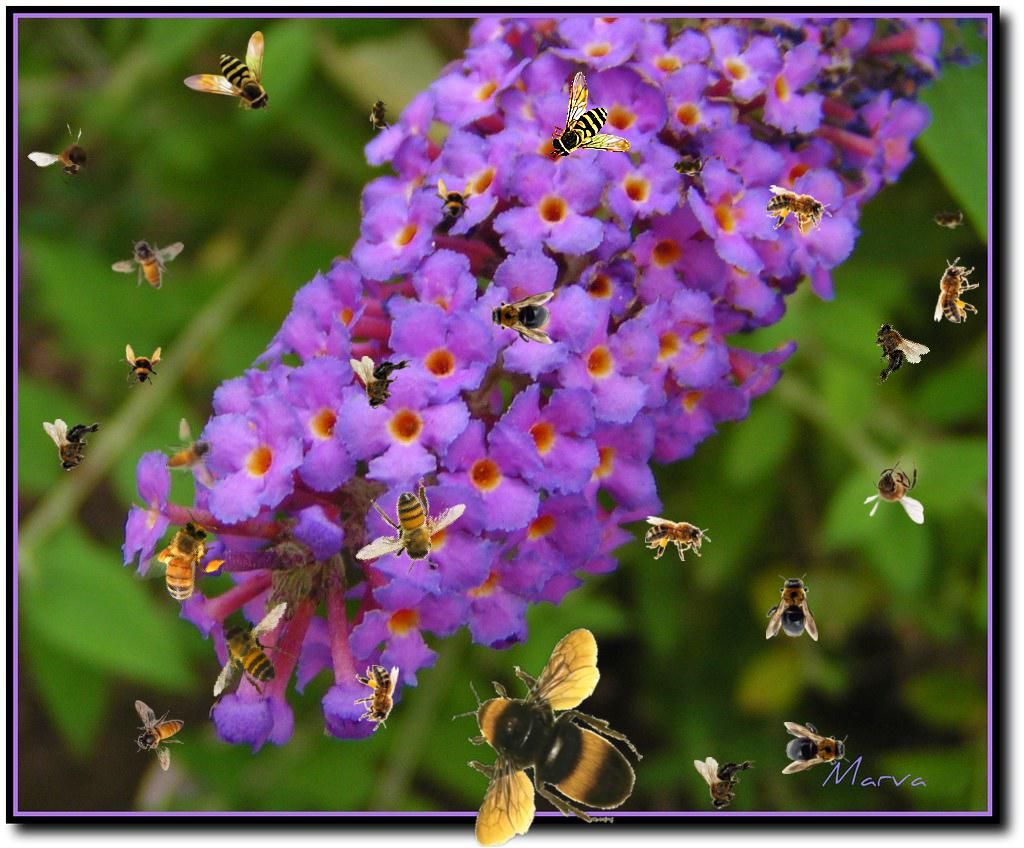Bee: (452, 627, 643, 847), (336, 456, 479, 602), (196, 585, 313, 715), (127, 504, 241, 619), (25, 111, 118, 205), (183, 31, 271, 113), (549, 71, 631, 159), (850, 309, 933, 389), (109, 235, 185, 292), (863, 454, 924, 524), (763, 184, 835, 237), (134, 700, 184, 771), (165, 418, 215, 489), (766, 573, 818, 641), (782, 722, 850, 774), (486, 292, 554, 344), (694, 757, 756, 810), (350, 356, 412, 409), (43, 419, 105, 472), (645, 516, 711, 561), (354, 665, 399, 731), (934, 257, 979, 323), (431, 178, 475, 222), (119, 344, 163, 388), (369, 94, 391, 134), (928, 207, 968, 229), (667, 155, 707, 177)
